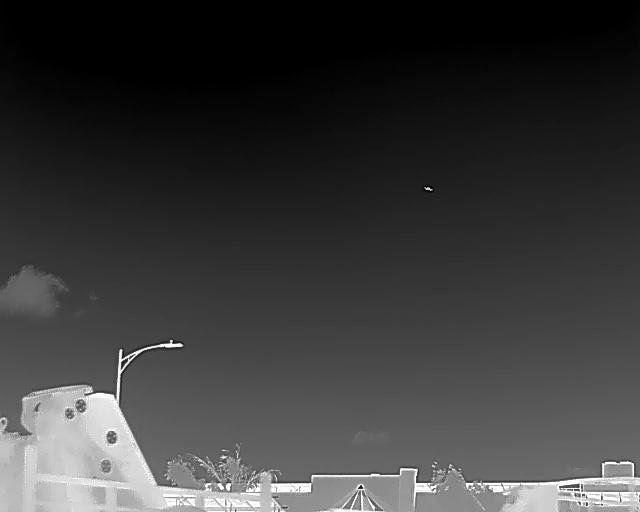fpv-drone: (423, 186, 433, 192)
